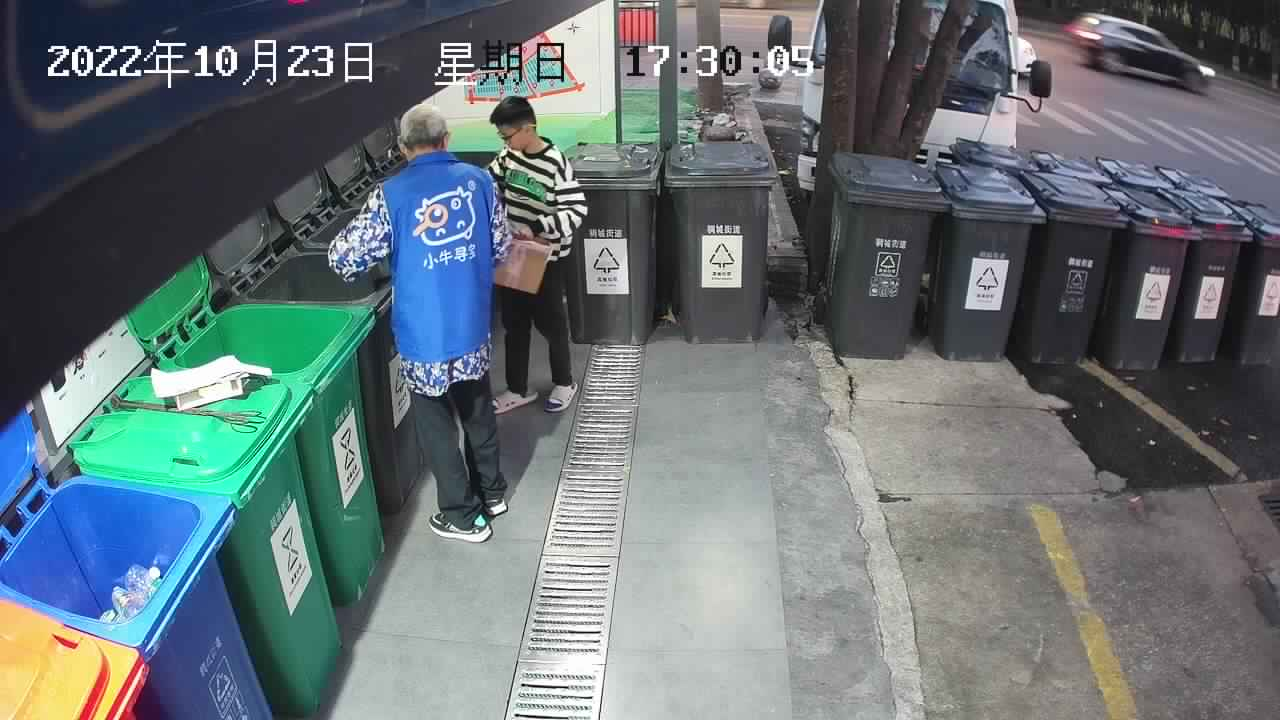worker: (323, 89, 594, 546)
zhizhipin: (482, 224, 560, 300)
